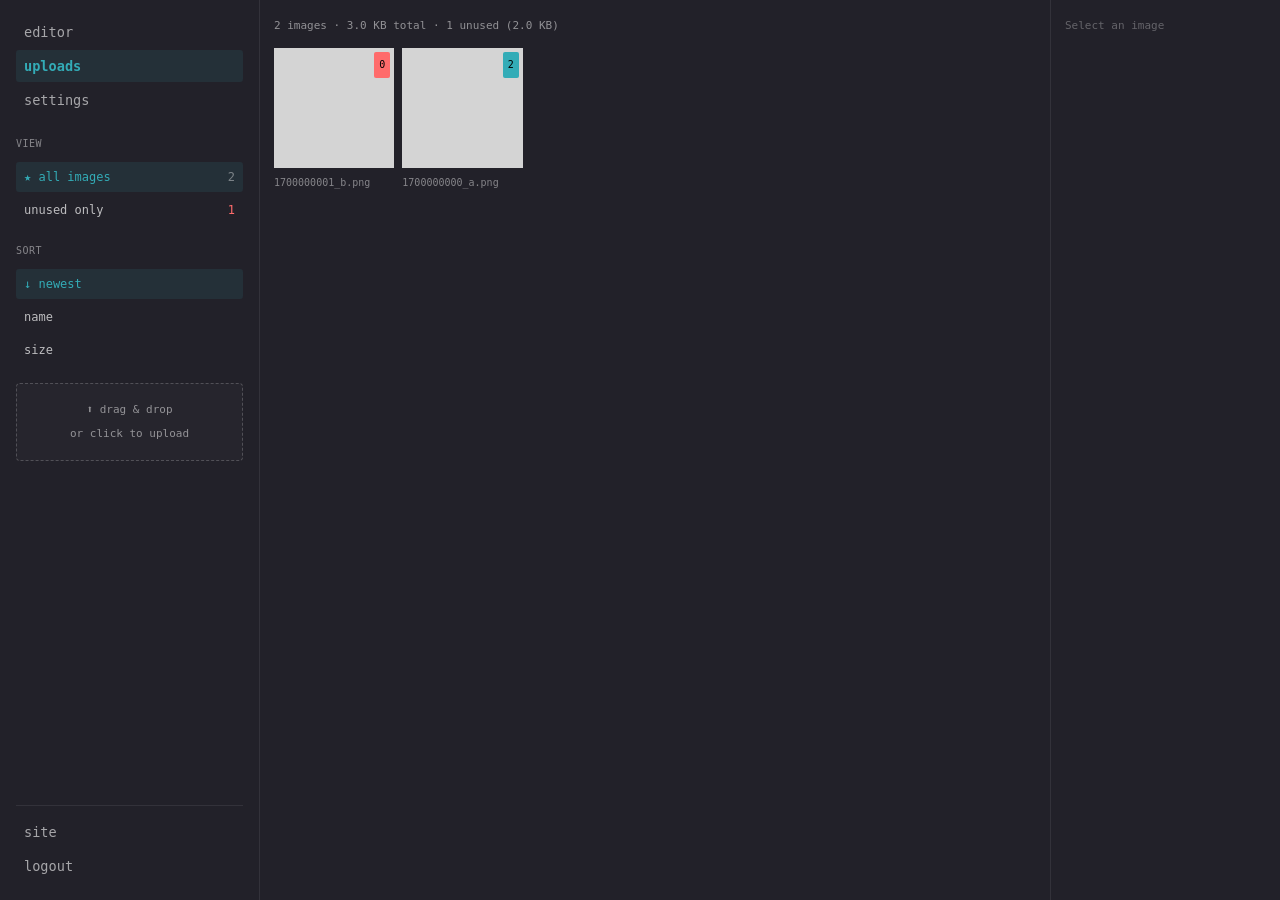
Test: UploadsPage — delete flow › deletes an unused image without confirmation
Check: the text "1700000001_b.png" is shown, box [274,177,370,188]
Click the element showing "0 1700000001_b.png" at (334, 122), box [274,48,394,195]
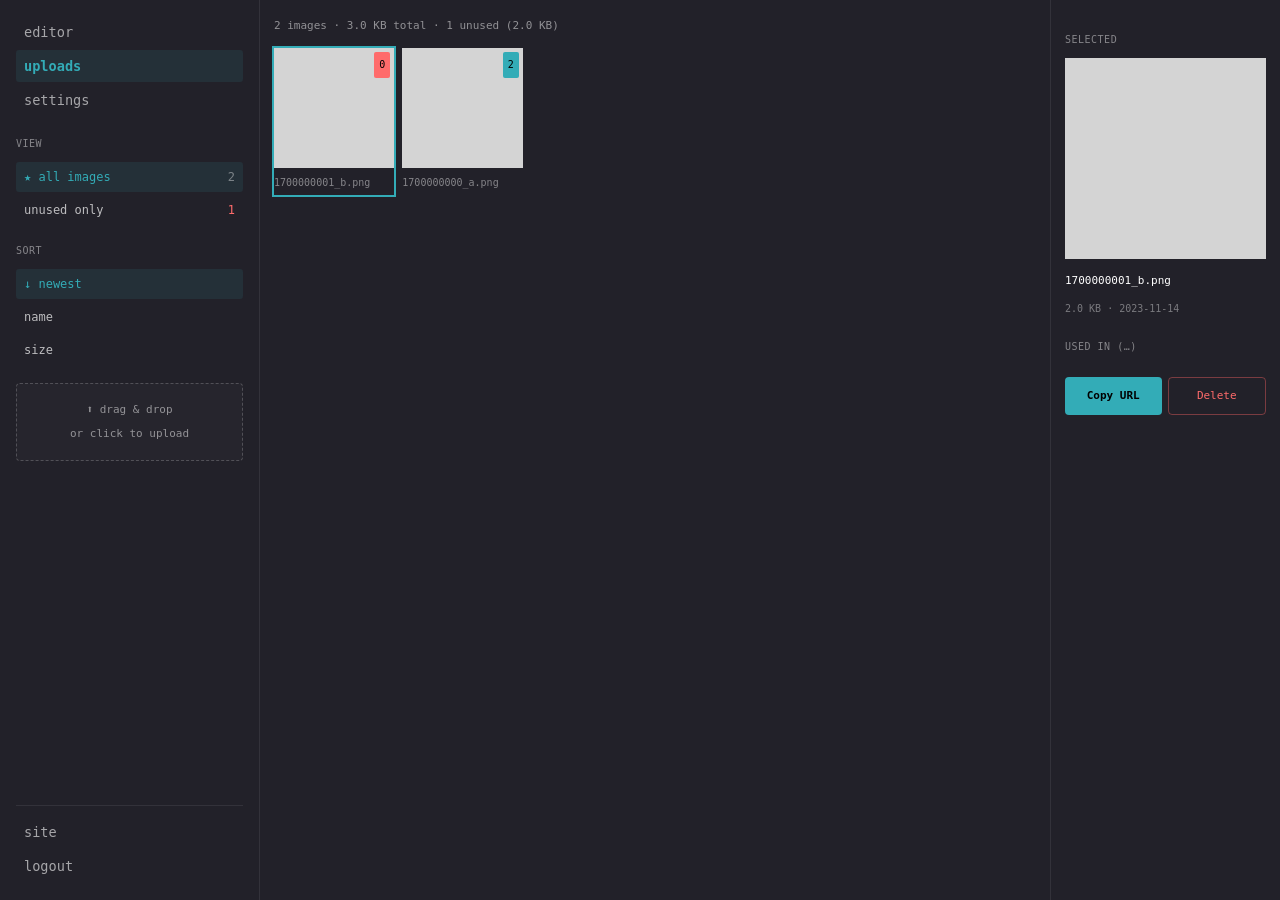
Click the button with test id "delete-button" at (1217, 396), box [1168,377,1266,415]
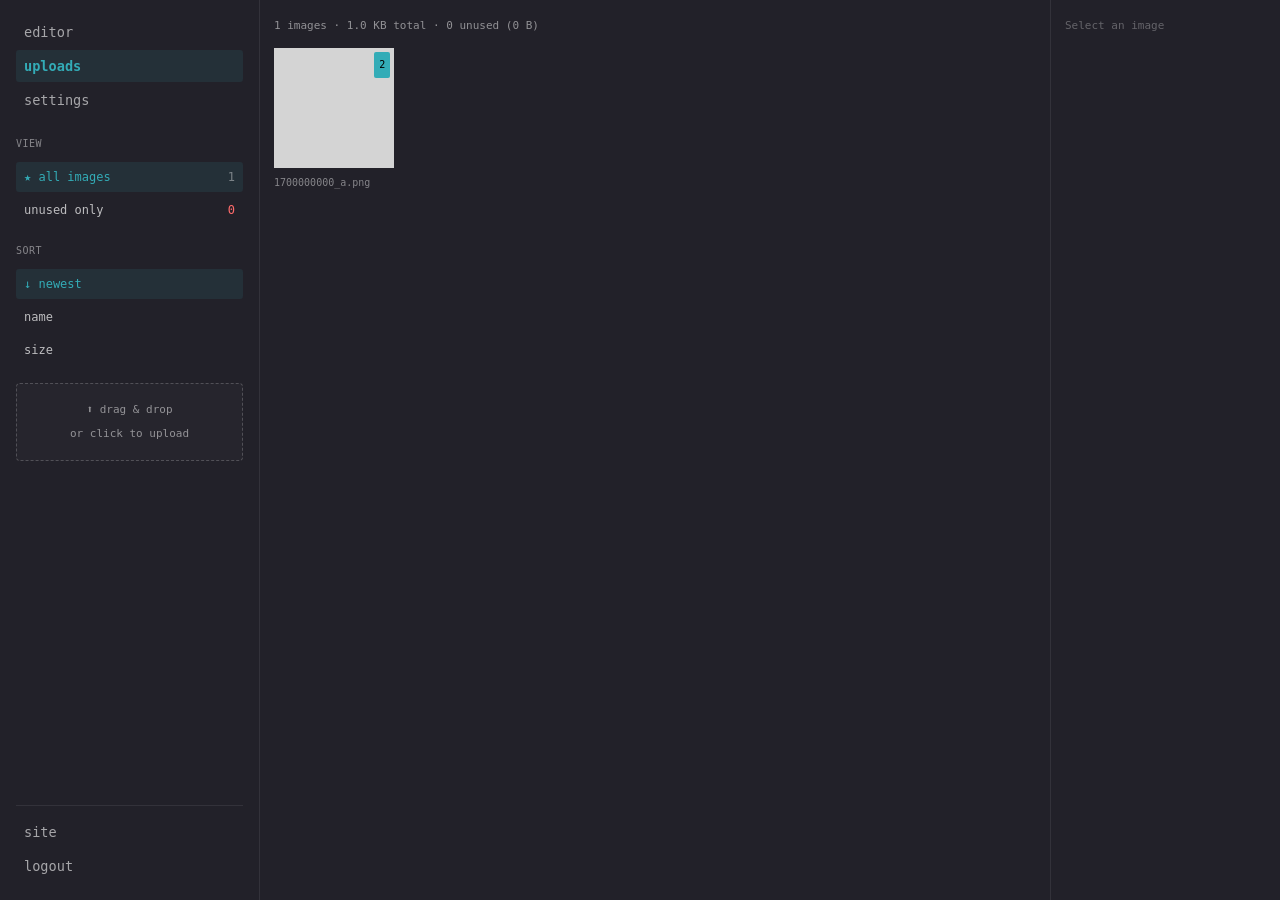
Check: the text "1700000001_b.png" is gone
